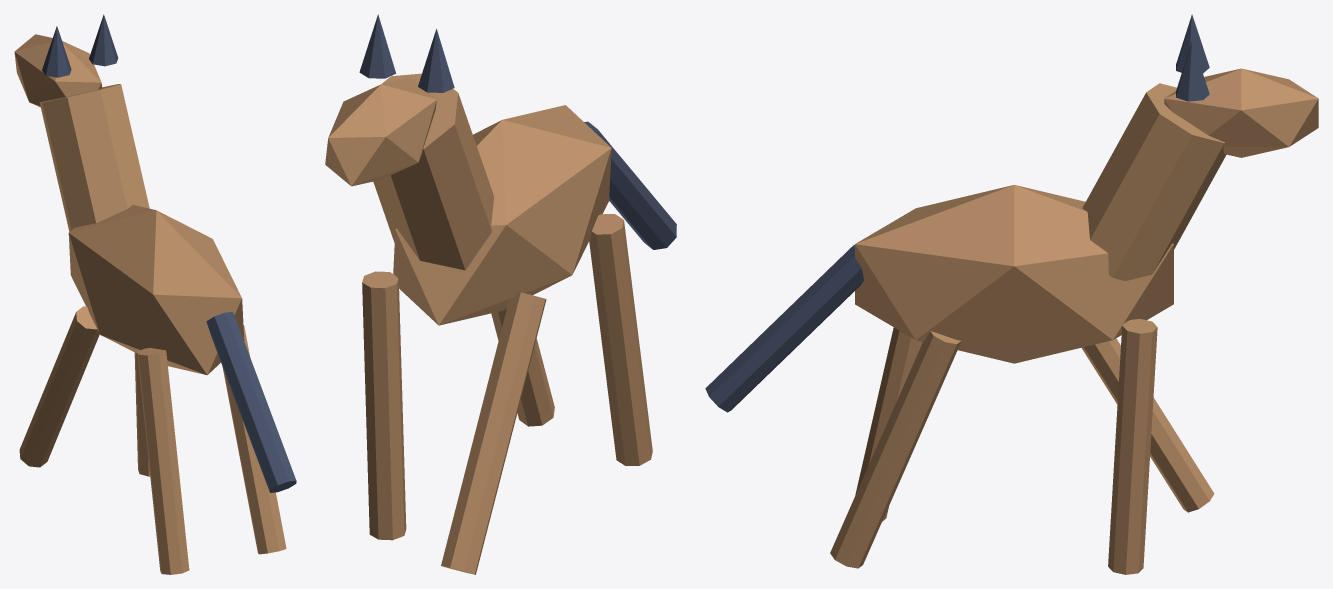
The model's file is horse.glb.
The picture shows the model from 3 angles, left to right: view 1: azimuth 30°, elevation 25°; view 2: azimuth 150°, elevation 25°; view 3: azimuth 270°, elevation 25°; orthographic projection. The views are drawn at different scales.
Visible parts, largest first — view 1: HorseBody, HorseLeg0, HorseLeg2, HorseLeg1, HorseLeg3; view 2: HorseBody, HorseLeg2, HorseLeg3, HorseLeg0, HorseLeg1; view 3: HorseBody, HorseLeg3, HorseLeg1, HorseLeg2, HorseLeg0.
Part boxes in pixels (x1,y1,x2,y2): HorseBody: (14, 14, 296, 492); HorseLeg0: (137, 348, 189, 574); HorseLeg2: (19, 306, 99, 467); HorseLeg1: (222, 325, 286, 554); HorseLeg3: (134, 352, 150, 476); HorseBody: (325, 14, 676, 325); HorseLeg2: (441, 291, 546, 574); HorseLeg3: (362, 271, 406, 540); HorseLeg0: (589, 214, 652, 465); HorseLeg1: (491, 308, 554, 426); HorseBody: (705, 14, 1318, 412); HorseLeg3: (1108, 319, 1157, 574); HorseLeg1: (830, 331, 961, 568); HorseLeg2: (1081, 338, 1214, 512); HorseLeg0: (855, 327, 922, 521).
Size of the model in its own units: 0.78 by 2.88 by 3.11.
